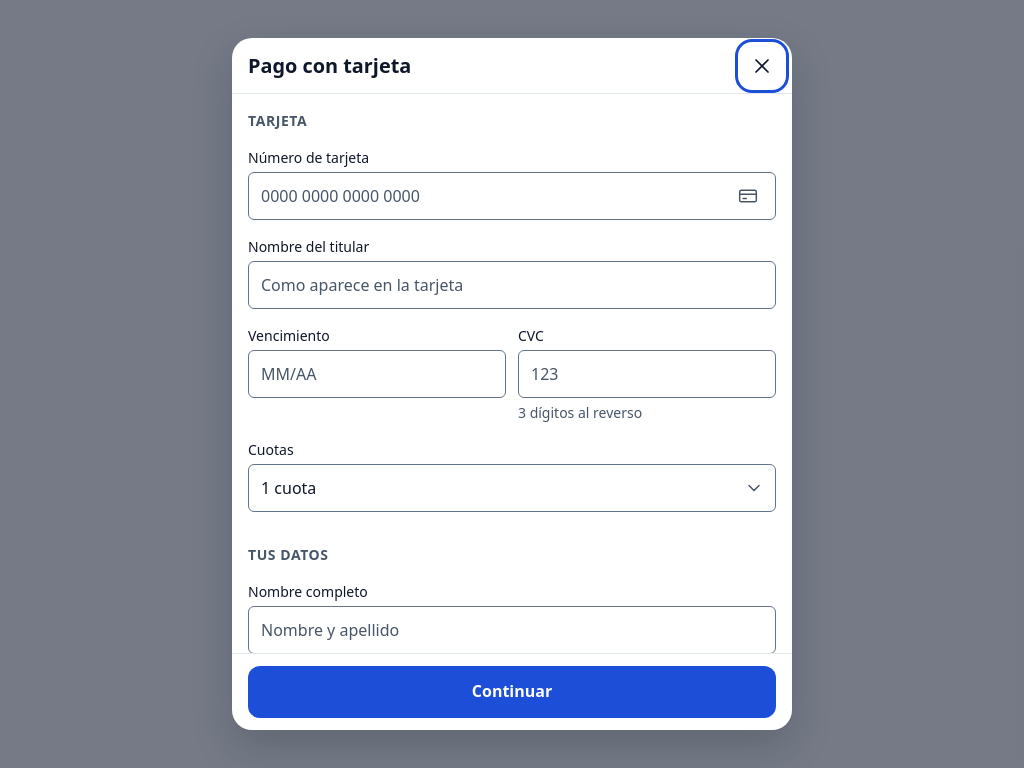
CheckoutModal › lists the number of errors and focuses the first invalid field on submit
Click the button "Continuar" at [512, 692], box [248,666,776,718]
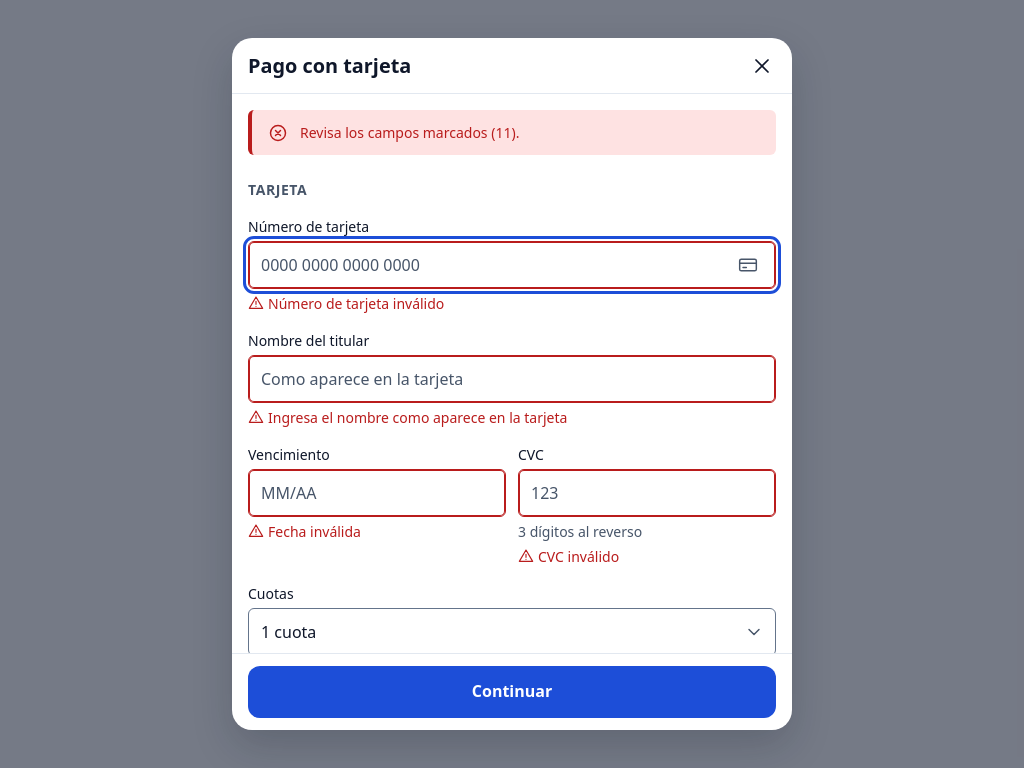
Now the message reads "Revisa los campos marcados (11).", box [300,123,519,142]
